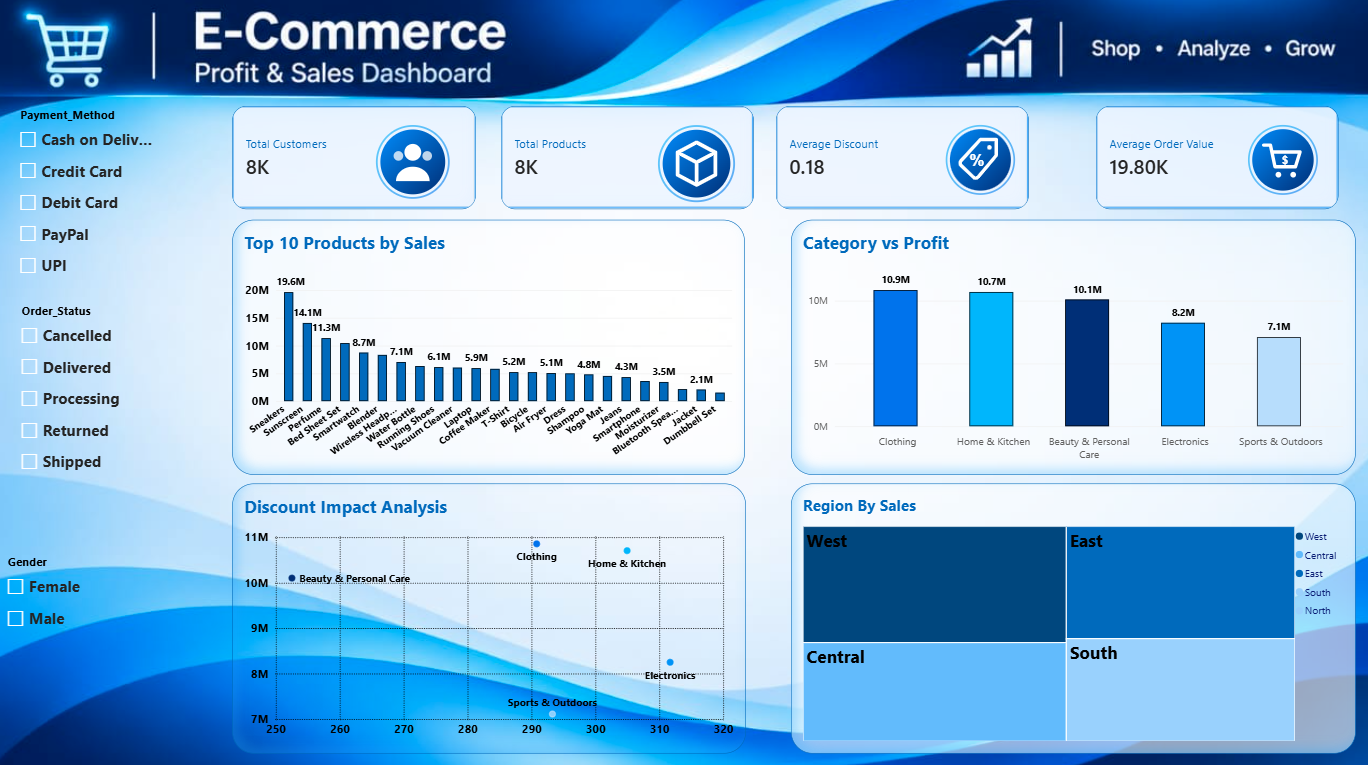

Layout of this report page (visuals, bound fields, positions):
{"tool":"powerbi","page":{"name":"Product & Customer Analysis Dashboard","canvas":[1920,1080],"ordinal":2},"visuals":[{"type":"cardVisual","fields":{"Data":["ecommerce_sales_dataset.Total Customers"]},"box":[329,153.4,340.1,143.9],"z":0},{"type":"cardVisual","fields":{"Data":["ecommerce_sales_dataset.Total Products"]},"box":[703.9,153.4,352.7,143.9],"z":1000},{"type":"cardVisual","fields":{"Data":["ecommerce_sales_dataset.Average Discount"]},"box":[1088.2,153.4,352.7,143.9],"z":2000},{"type":"columnChart","title":"Top 10 Products by Sales","fields":{"Category":["ecommerce_sales_dataset.Product_Name"],"Y":["Sum(ecommerce_sales_dataset.Sales)"]},"box":[329,311.6,714.9,355.9],"z":3000},{"type":"columnChart","title":"Category vs Profit","fields":{"Category":["ecommerce_sales_dataset.Product_Category"],"Y":["Sum(ecommerce_sales_dataset.Profit)"]},"box":[1108.8,311.6,787.7,355.9],"z":4000},{"type":"treemap","title":" Region By Sales","fields":{"Group":["ecommerce_sales_dataset.Region"],"Values":["Sum(ecommerce_sales_dataset.Sales)"]},"box":[1108.8,680.1,787.7,376.5],"z":5000},{"type":"cardVisual","fields":{"Data":["ecommerce_sales_dataset.Average Order Value"]},"box":[1534.3,153.4,338.5,143.9],"z":6000},{"type":"slicer","fields":{"Values":["ecommerce_sales_dataset.Gender"]},"box":[8.7,777.9,231.9,140.6],"z":7000},{"type":"slicer","fields":{"Values":["ecommerce_sales_dataset.Payment_Method"]},"box":[26.2,153.5,193.9,249],"z":8000},{"type":"slicer","fields":{"Values":["ecommerce_sales_dataset.Order_Status"]},"box":[27.9,427.3,193.9,326.5],"z":9000},{"type":"scatterChart","title":"Discount Impact Analysis","fields":{"Category":["ecommerce_sales_dataset.Product_Category"],"X":["Sum(ecommerce_sales_dataset.Discount)"],"Y":["Sum(ecommerce_sales_dataset.Profit)"]},"box":[329,680.1,716.5,376.5],"z":10000},{"type":"image","box":[1306.5,177.2,134.4,101.2],"z":10001},{"type":"image","box":[1695.6,177.2,200.9,101.2],"z":10002},{"type":"image","box":[512.5,177.2,137.6,107.6],"z":10003},{"type":"image","box":[898.4,177.2,158.2,112.3],"z":10004}]}

Visuals, with their boxes in screenshot pixels (x1, y1, x2, y2), scaled from the page's 1920x1080 canvas onto the 1368x765 screenshot:
cardVisual - ecommerce_sales_dataset.Total Customers: BBox(234, 109, 477, 211)
cardVisual - ecommerce_sales_dataset.Total Products: BBox(502, 109, 753, 211)
cardVisual - ecommerce_sales_dataset.Average Discount: BBox(775, 109, 1027, 211)
"Top 10 Products by Sales" columnChart: BBox(234, 221, 744, 473)
"Category vs Profit" columnChart: BBox(790, 221, 1351, 473)
" Region By Sales" treemap: BBox(790, 482, 1351, 748)
cardVisual - ecommerce_sales_dataset.Average Order Value: BBox(1093, 109, 1334, 211)
slicer - ecommerce_sales_dataset.Gender: BBox(6, 551, 171, 651)
slicer - ecommerce_sales_dataset.Payment_Method: BBox(19, 109, 157, 285)
slicer - ecommerce_sales_dataset.Order_Status: BBox(20, 303, 158, 534)
"Discount Impact Analysis" scatterChart: BBox(234, 482, 745, 748)
image: BBox(931, 126, 1027, 197)
image: BBox(1208, 126, 1351, 197)
image: BBox(365, 126, 463, 202)
image: BBox(640, 126, 753, 205)
